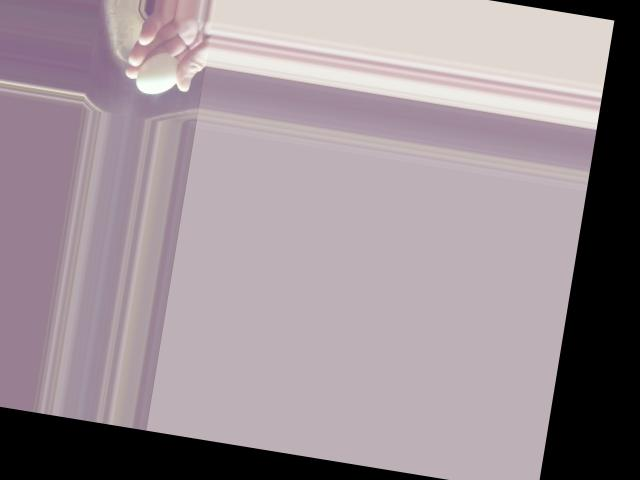egg: (135, 49, 181, 97)
